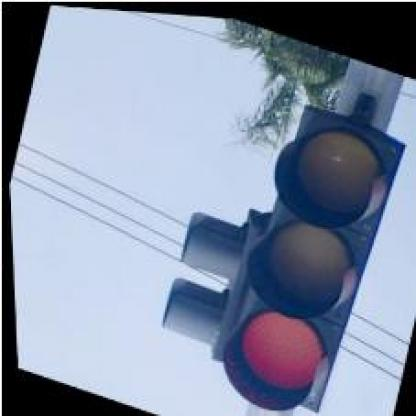red: (197, 84, 415, 414)
